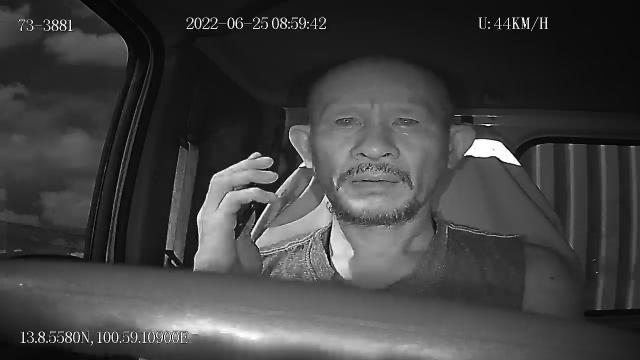PhoneUse: (231, 125, 277, 239)
SafeDriving: (383, 106, 428, 134), (326, 106, 368, 133)
